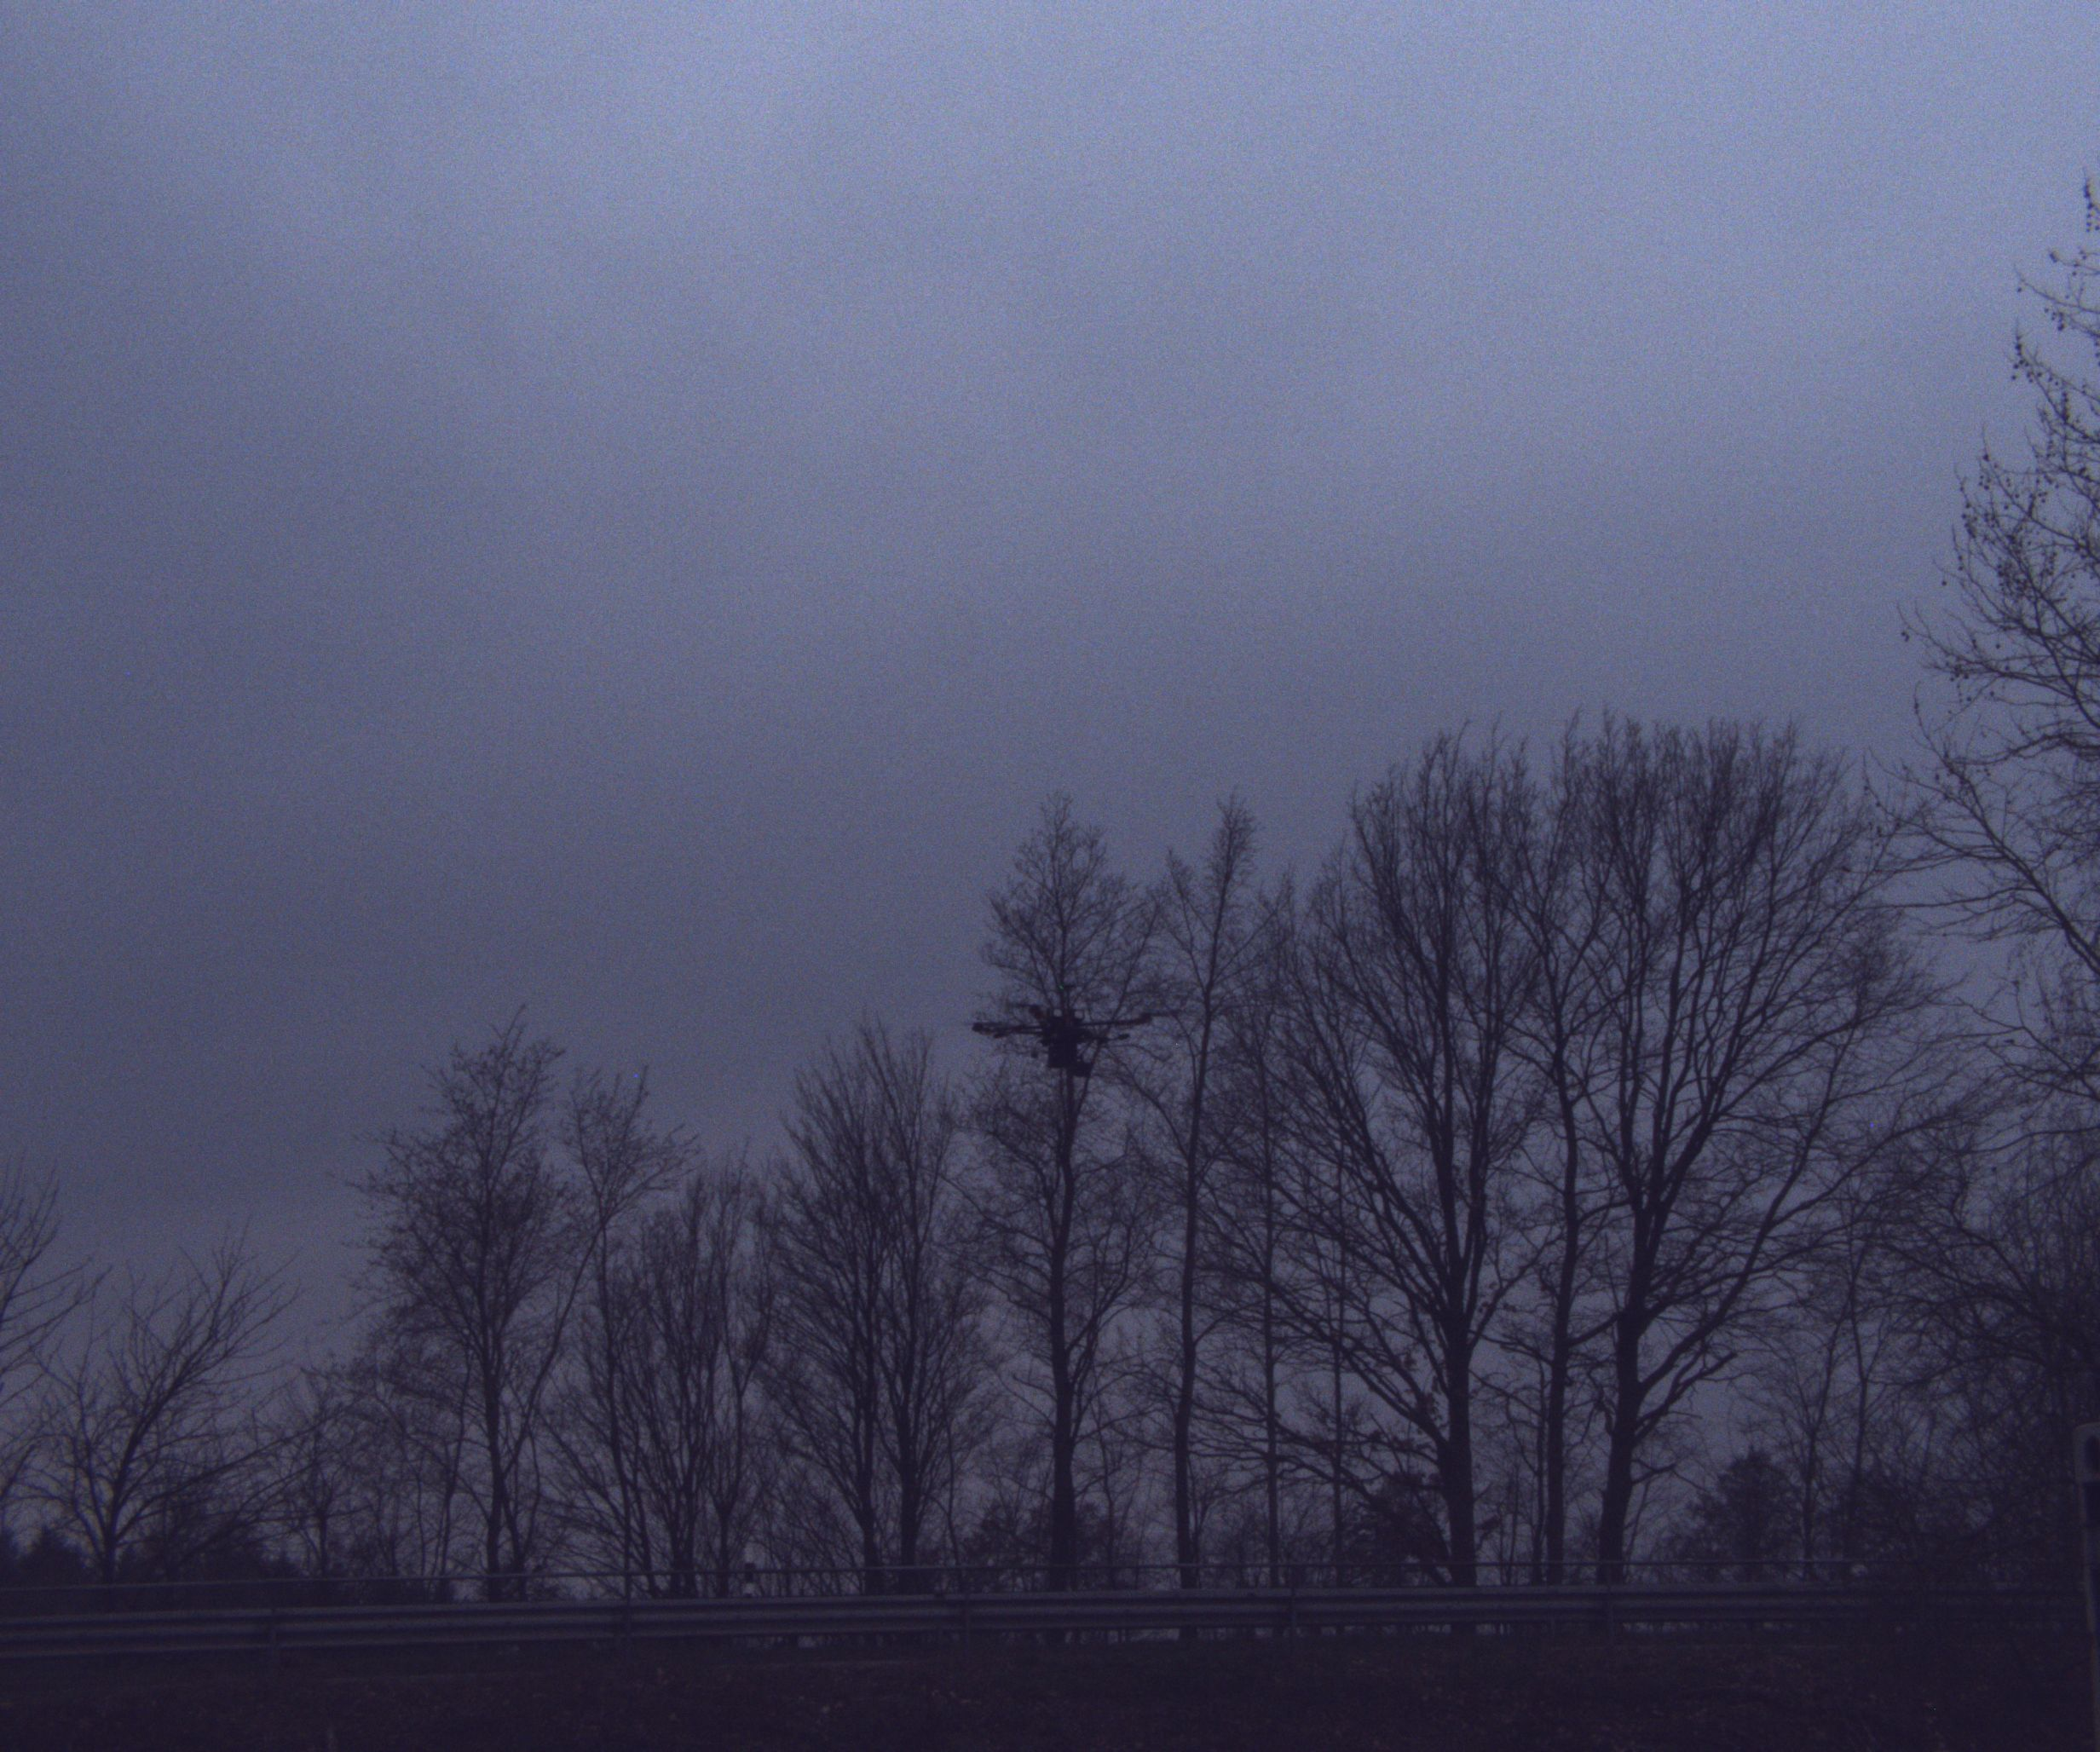Drohne: (949, 990, 1228, 1151)
